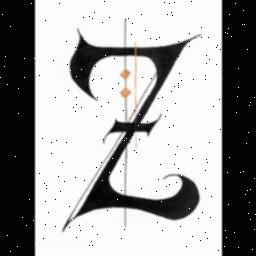z: (58, 17, 208, 231)
